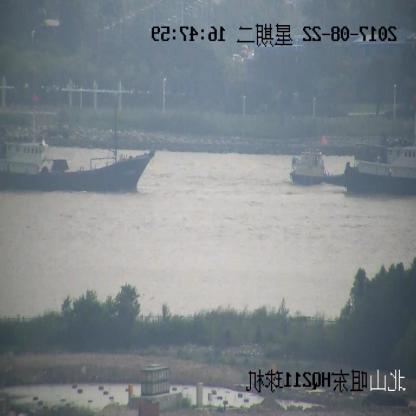Fishing Boat: (0, 87, 151, 193), (348, 141, 416, 194), (288, 140, 363, 185)
